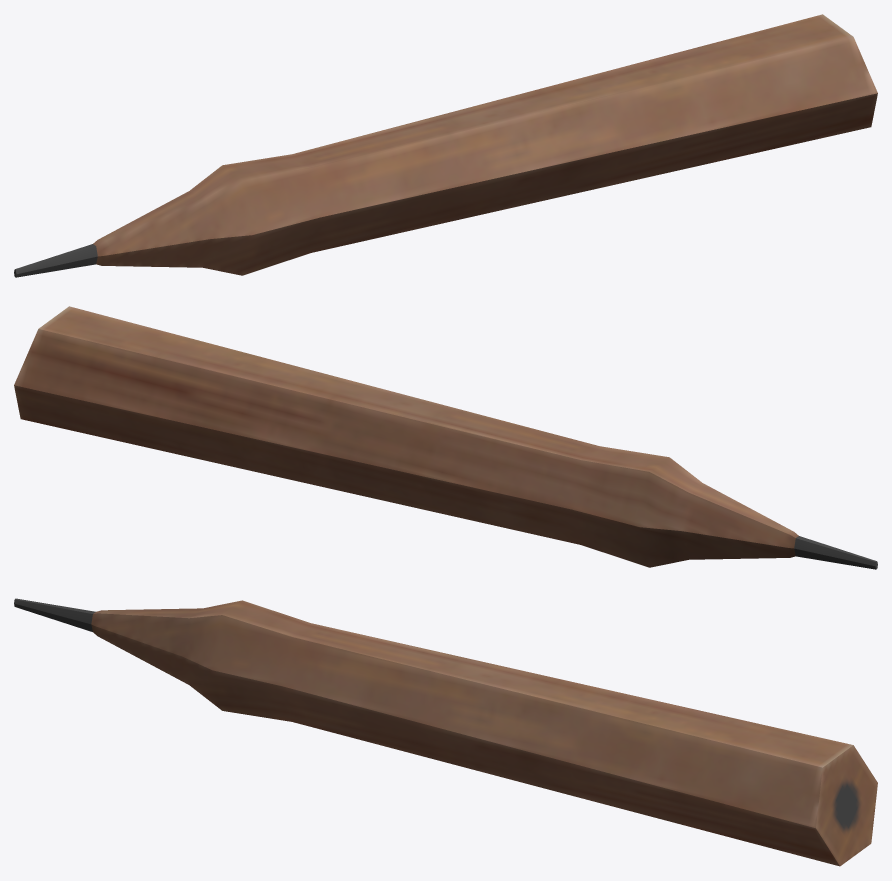
The model's file is SM_PaperPen_0q.fbx.
The picture shows the model from 3 angles, top to bottom: view 1: azimuth 30°, elevation 25°; view 2: azimuth 150°, elevation 25°; view 3: azimuth 330°, elevation 25°; orthographic projection.
Parts seen in each view (by area): view 1: SM_PaperPen_0q_LOD0; view 2: SM_PaperPen_0q_LOD0; view 3: SM_PaperPen_0q_LOD0.
Boxes of the visible parts, x1,y1,x2,y2 form: SM_PaperPen_0q_LOD0: [14, 14, 877, 277]; SM_PaperPen_0q_LOD0: [14, 306, 877, 569]; SM_PaperPen_0q_LOD0: [14, 598, 877, 866].
Bounding box in the file's own units: 18.4 × 2.35 × 2.01.
1 material, 1 textured.
